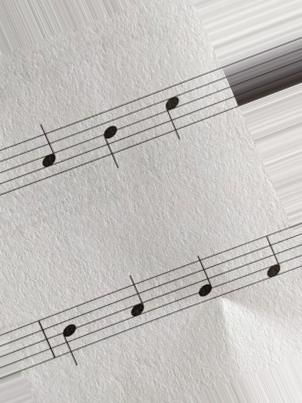note: (117, 271, 149, 334), (29, 119, 62, 174), (58, 306, 85, 373), (189, 252, 218, 314), (100, 107, 123, 174), (162, 83, 185, 147), (259, 231, 284, 287)
